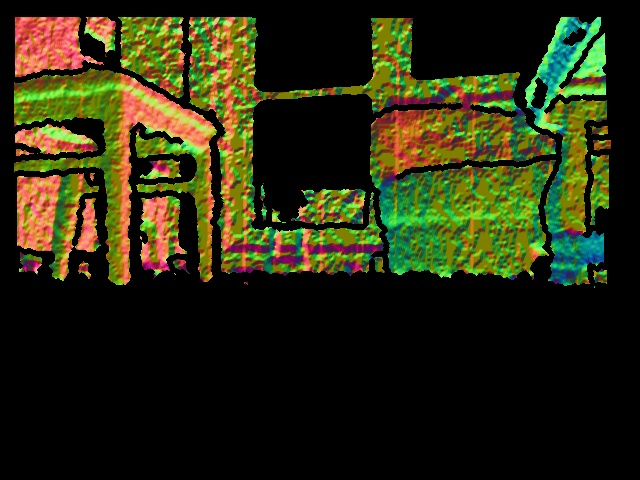station: (265, 224, 311, 274)
